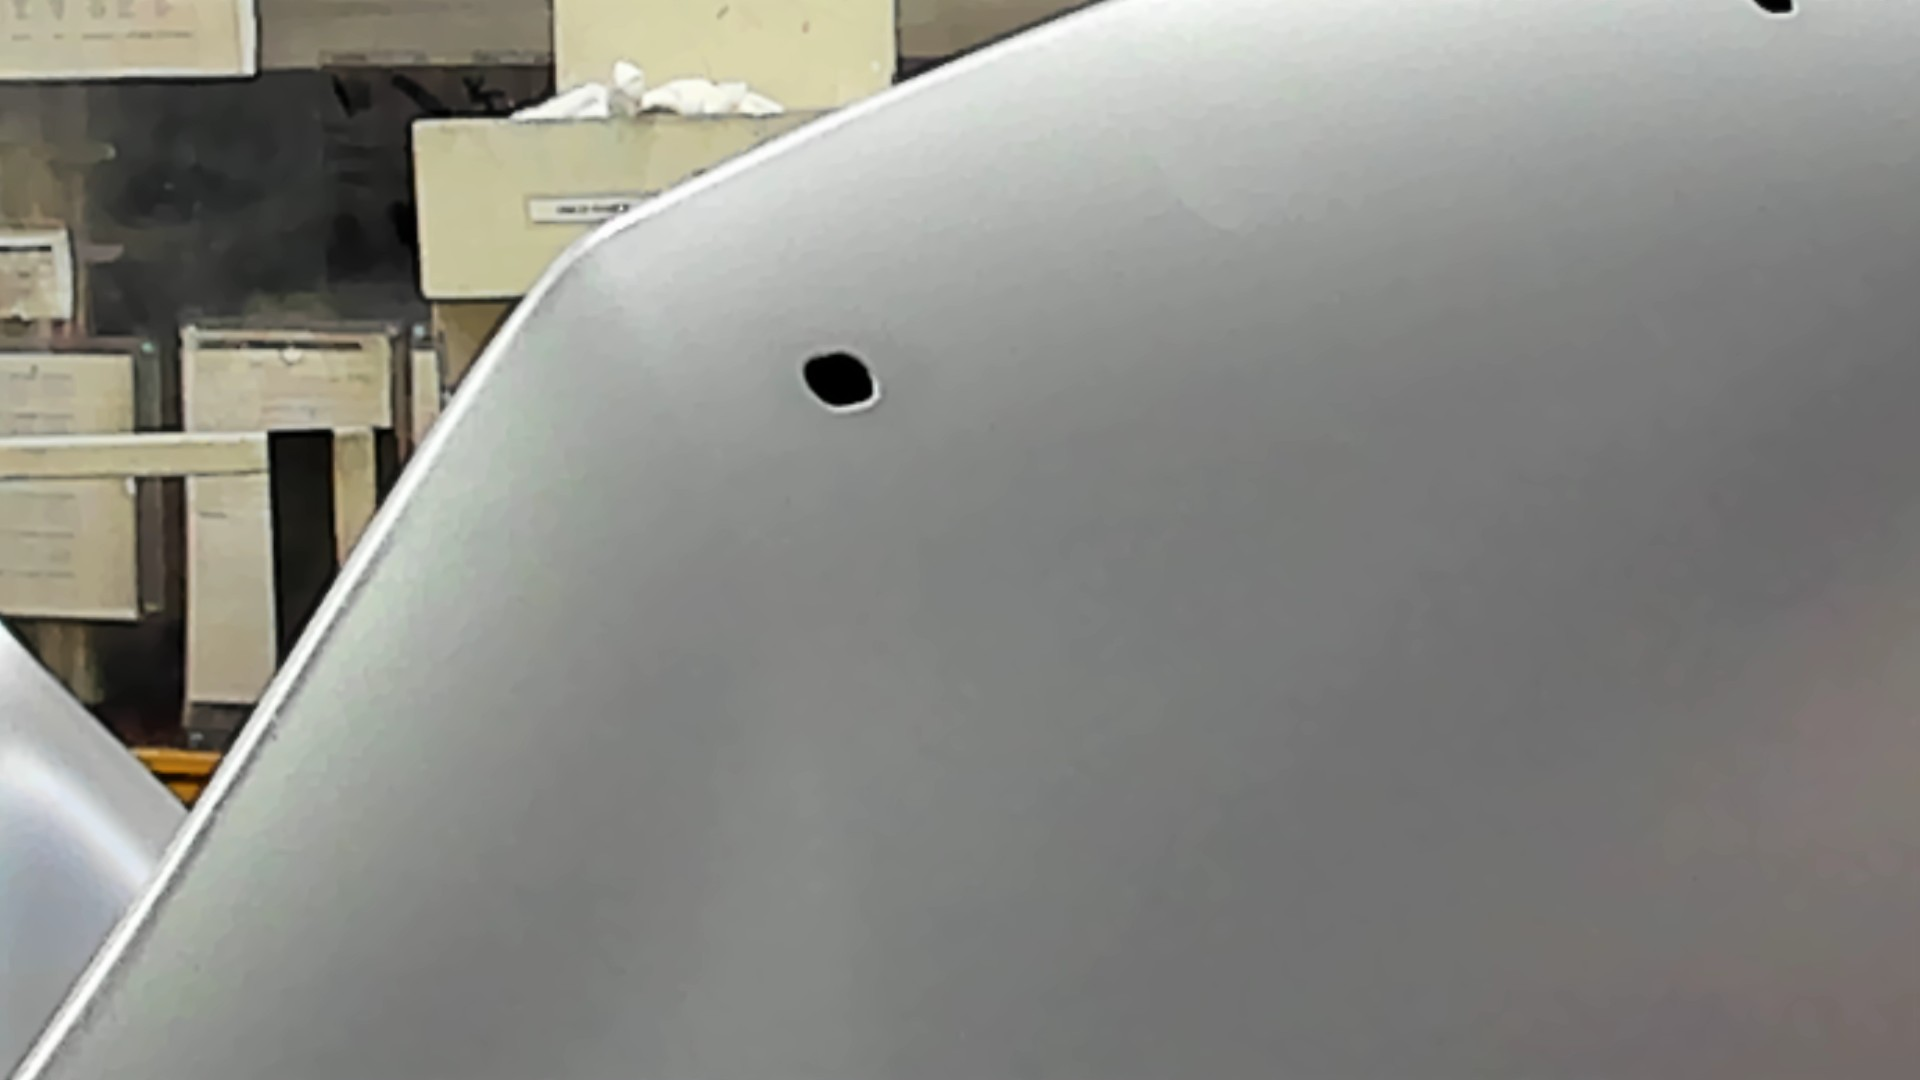amorfo: (796, 342, 882, 419), (1745, 1, 1805, 26)
